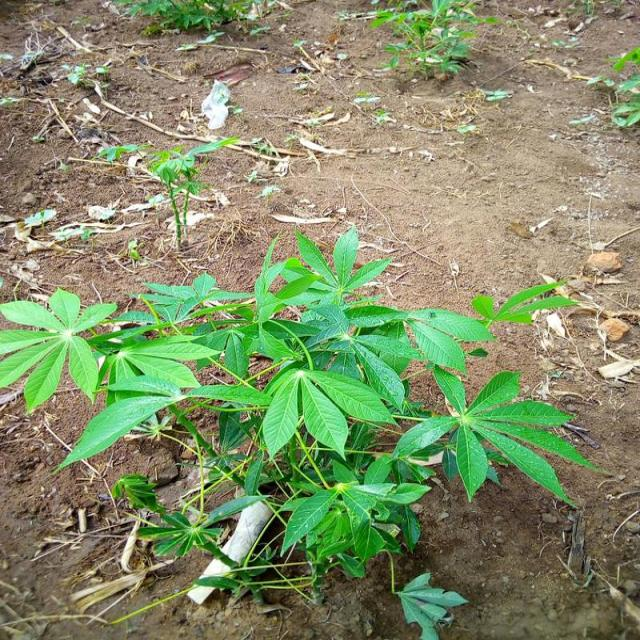cassava leaf: (1, 224, 608, 608), (392, 364, 610, 510), (0, 286, 118, 415)
